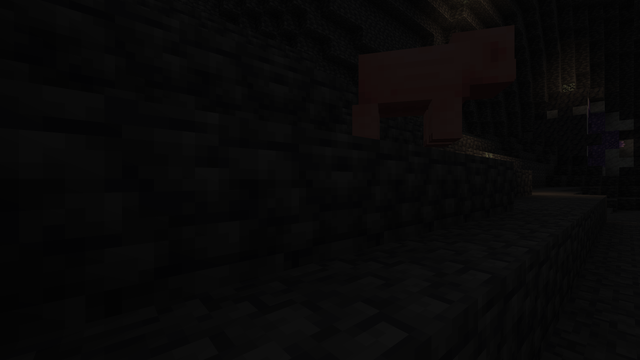cochons: (348, 24, 469, 148)
